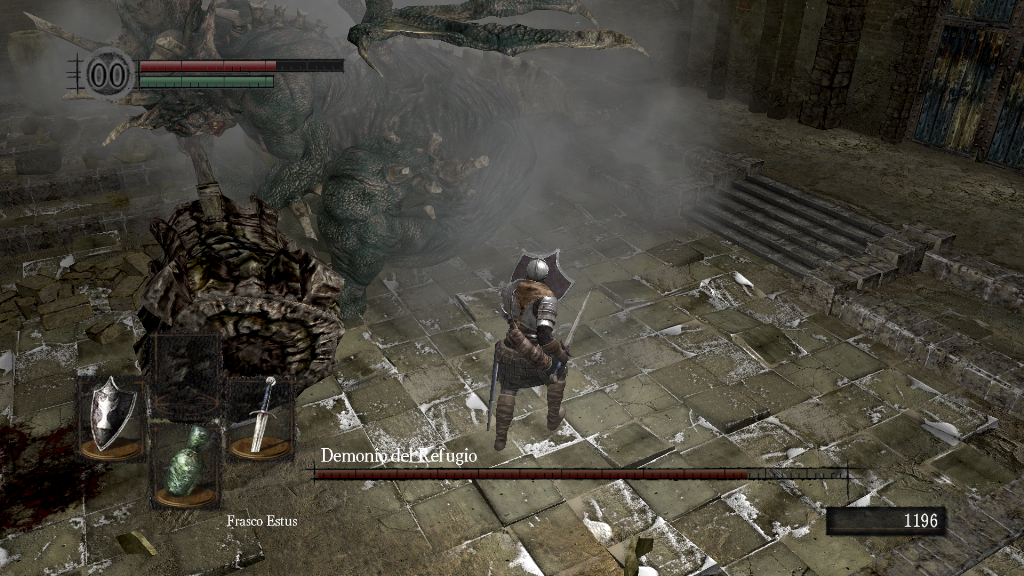asylumDemon: (25, 1, 658, 428)
bossHP: (314, 469, 847, 479)
health: (138, 58, 343, 71)
humanity: (80, 45, 136, 102)
player: (490, 247, 593, 451)
souls: (825, 506, 945, 536)
stamina: (138, 74, 274, 88)
